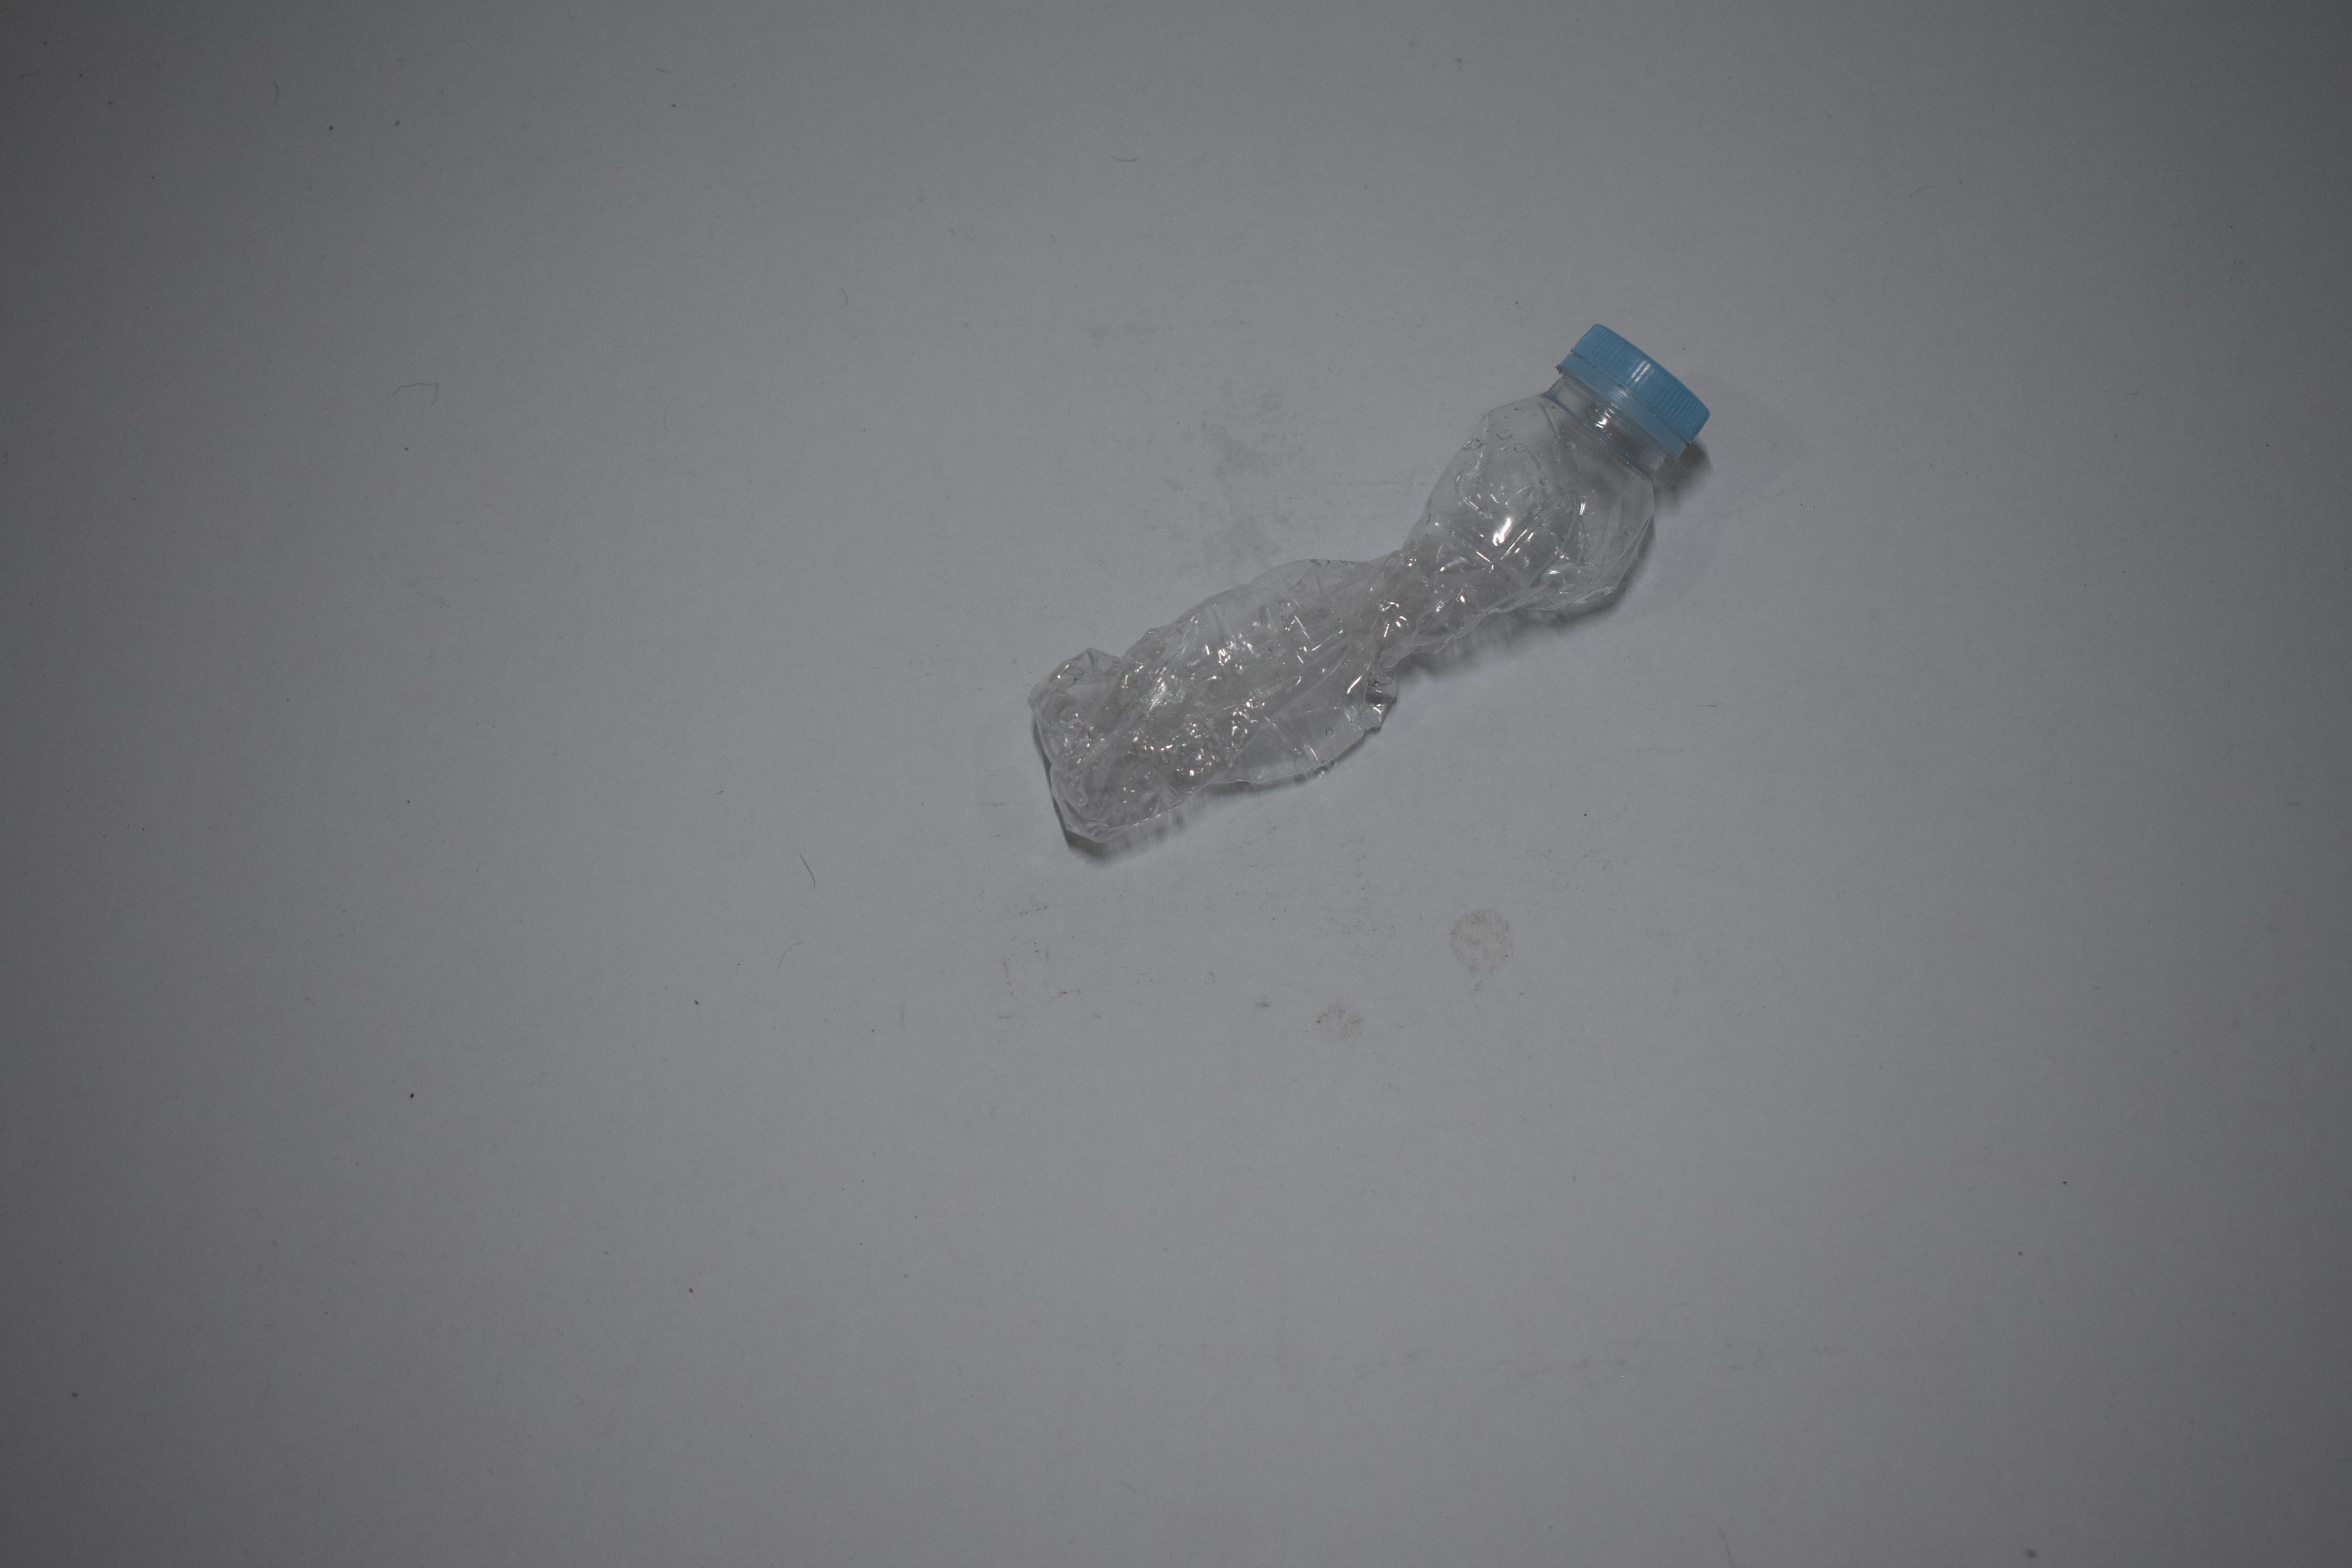bottle: (0, 345, 532, 816)
